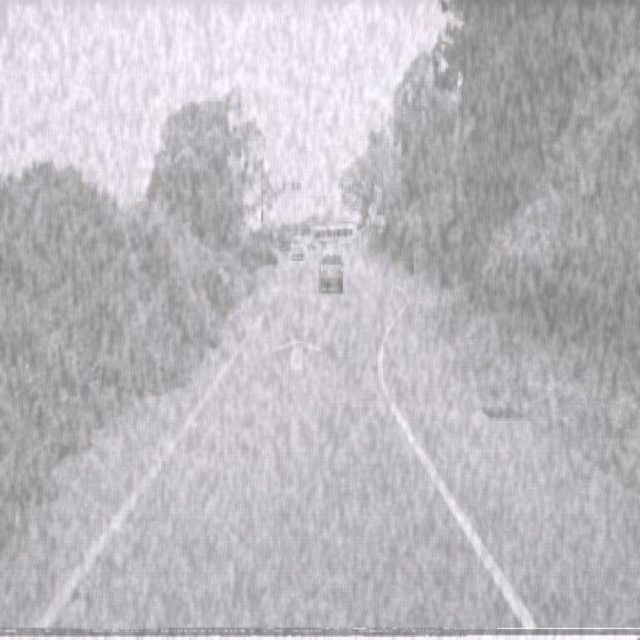pedestrianCrossing: (366, 198, 378, 222)
